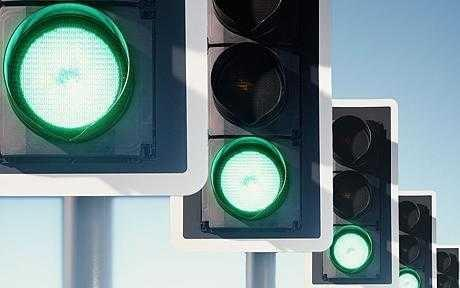red traffic light: (1, 3, 150, 149), (212, 134, 300, 229), (328, 222, 382, 278), (397, 267, 425, 288)
